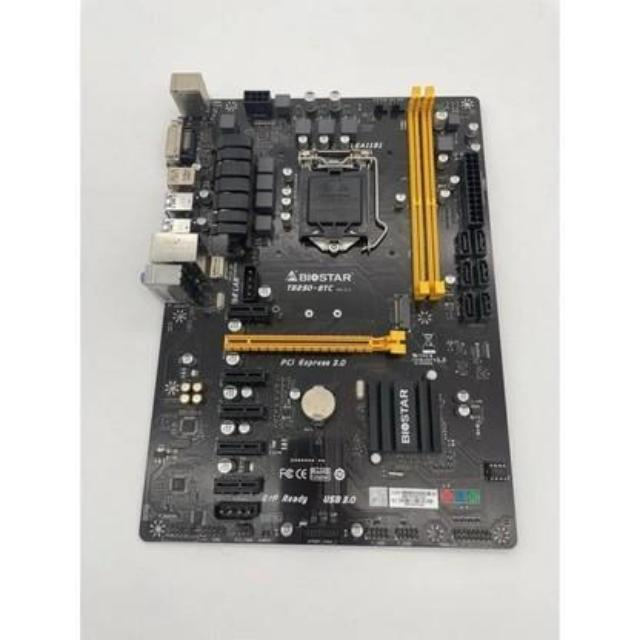Mainboard: (136, 62, 522, 554)
